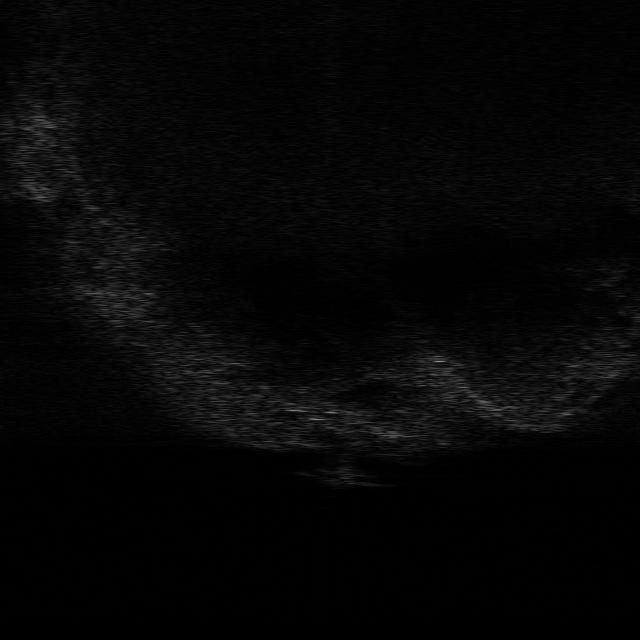plane: (298, 462, 387, 490)
